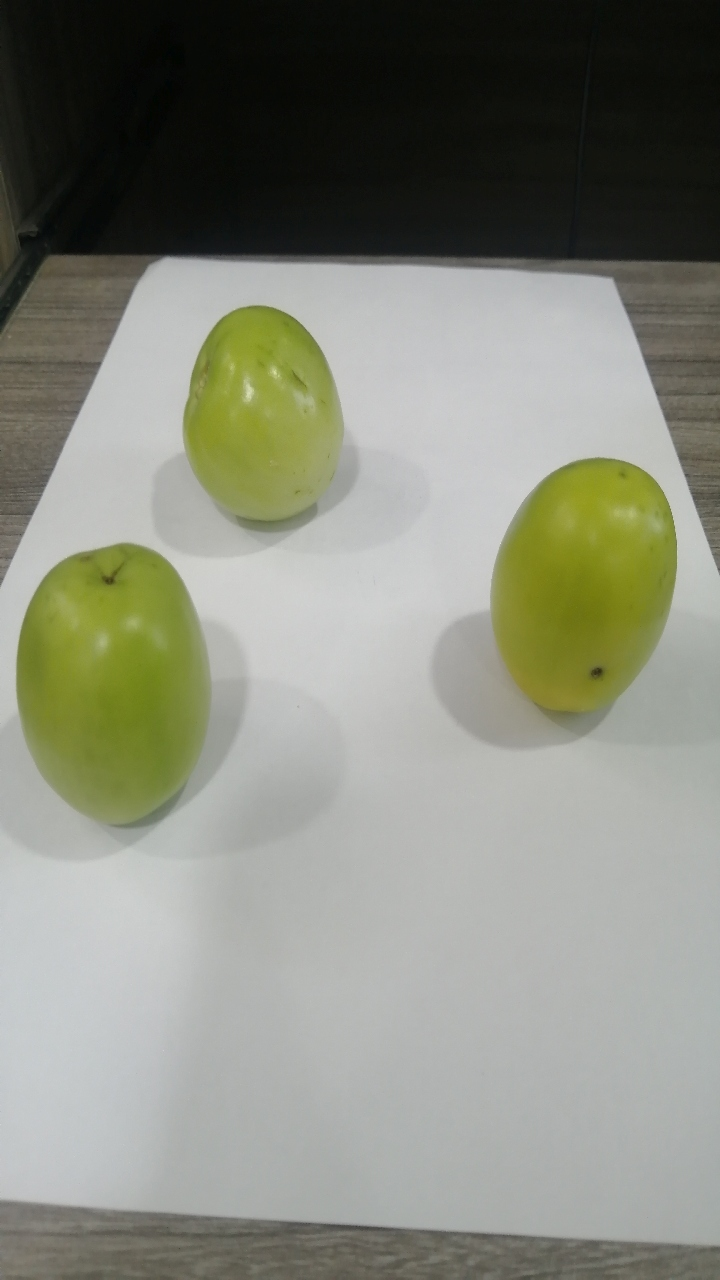tomateVerde: (3, 520, 244, 857), (463, 429, 698, 760), (154, 282, 404, 557)
